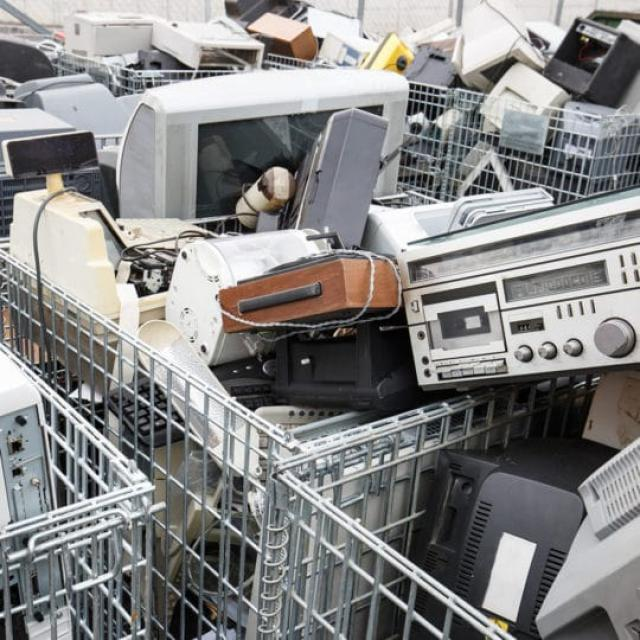hazard: (20, 91, 640, 412), (47, 0, 640, 116), (459, 446, 640, 614), (0, 373, 75, 512)
